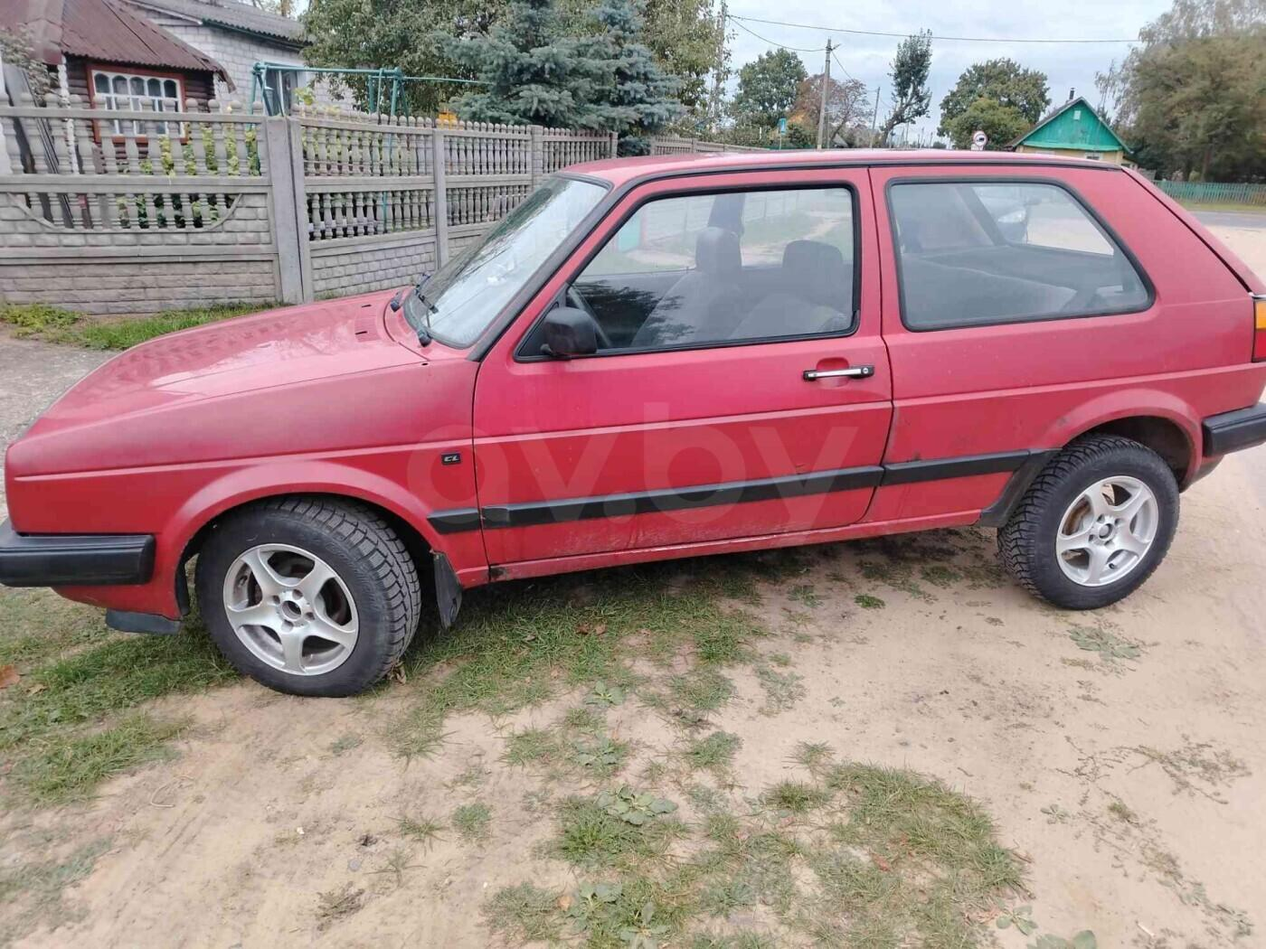Golf_1983-1992: (3, 138, 1266, 702)
